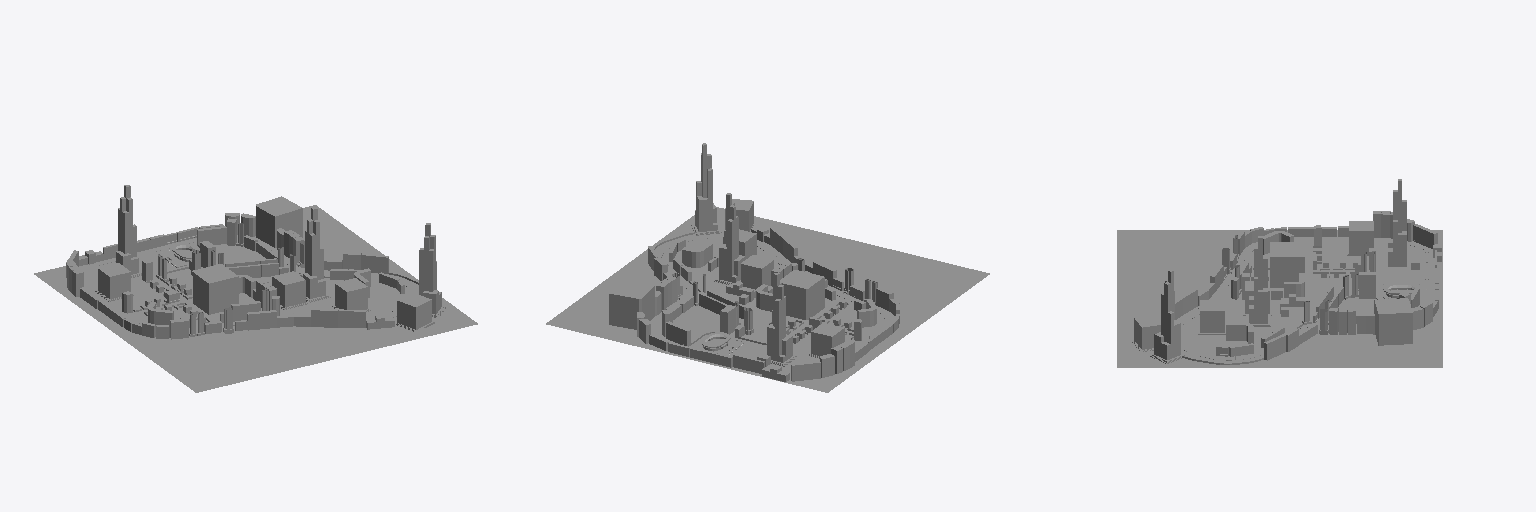
Rendered from gmae.obj.
The picture shows the model from 3 angles: view 1: azimuth 30°, elevation 25°; view 2: azimuth 150°, elevation 25°; view 3: azimuth 270°, elevation 25°; orthographic projection.
Visible parts, largest first — view 1: Plane, Cube.024_Cube.017, Cube.039_Cube.040, Cube.117_Cube.118, Cube.027_Cube.028, Cube.030, Cube.052, Cube.045, Cube.101_Cube.102, Cube.158_Cube.161, Cube.059; view 2: Plane, Cube.039_Cube.040, Cube.024_Cube.017, Cube.027_Cube.028, Cube.030, Cube.117_Cube.118, Cube.101_Cube.102, Cube.045, Plane.049_Plane.001, Cube.031, Cube.052, Cube.026_Cube.027; view 3: Plane, Cube.039_Cube.040, Cube.030, Cube.024_Cube.017, Cube.027_Cube.028, Cube.117_Cube.118, Cube.158_Cube.161, Cube.045, Cube.052.
Boxes of the visible parts, box(x1,y1,x2,y2) form: Plane: box(34, 205, 477, 392); Cube.024_Cube.017: box(193, 264, 238, 314); Cube.039_Cube.040: box(256, 196, 302, 247); Cube.117_Cube.118: box(303, 207, 330, 302); Cube.027_Cube.028: box(116, 185, 141, 277); Cube.030: box(419, 223, 445, 317); Cube.052: box(395, 293, 434, 331); Cube.045: box(95, 263, 133, 301); Cube.101_Cube.102: box(272, 271, 308, 309); Cube.158_Cube.161: box(332, 278, 370, 311); Cube.059: box(247, 310, 276, 330); Plane: box(546, 207, 989, 392); Cube.039_Cube.040: box(609, 280, 654, 329); Cube.024_Cube.017: box(780, 270, 824, 319); Cube.027_Cube.028: box(767, 273, 796, 366); Cube.030: box(691, 143, 721, 235); Cube.117_Cube.118: box(714, 193, 744, 284); Cube.101_Cube.102: box(741, 255, 773, 289); Cube.045: box(808, 323, 844, 358); Plane.049_Plane.001: box(697, 339, 766, 358); Cube.031: box(682, 242, 712, 267); Cube.052: box(722, 199, 756, 232); Cube.026_Cube.027: box(791, 361, 820, 381); Plane: box(1117, 230, 1442, 367); Cube.039_Cube.040: box(1374, 298, 1412, 345); Cube.030: box(1150, 269, 1185, 363); Cube.024_Cube.017: box(1270, 242, 1304, 287); Cube.027_Cube.028: box(1384, 179, 1410, 269); Cube.117_Cube.118: box(1245, 236, 1271, 326); Cube.158_Cube.161: box(1198, 300, 1226, 334); Cube.045: box(1347, 221, 1375, 255); Cube.052: box(1131, 314, 1160, 351).
Bounding box in the file's own units: 31.28 × 9.09 × 31.28.